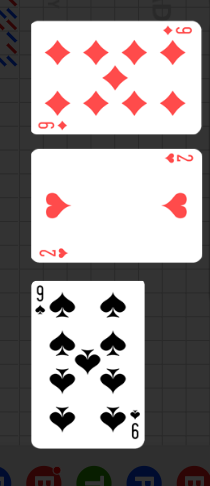9D: (161, 25, 193, 36)
9S: (128, 407, 141, 441), (34, 284, 46, 317)
